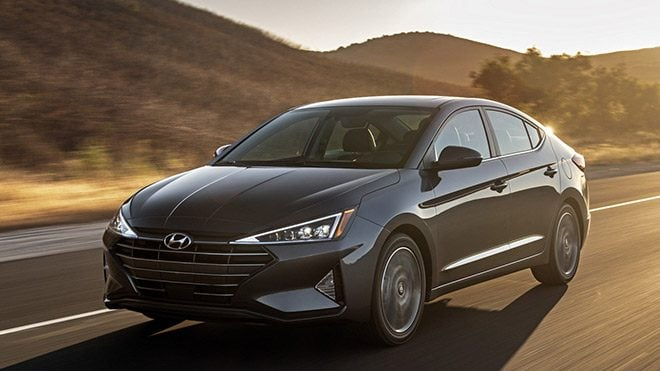car: (98, 94, 598, 346)
